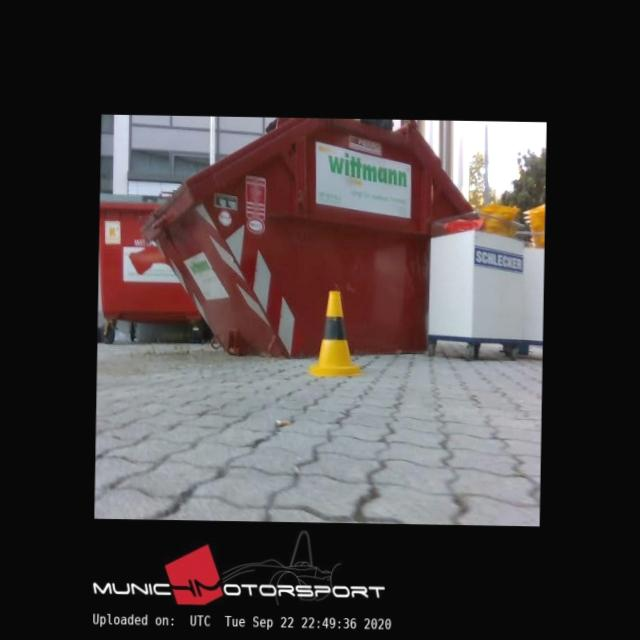yellow_cone: (309, 290, 363, 378)
